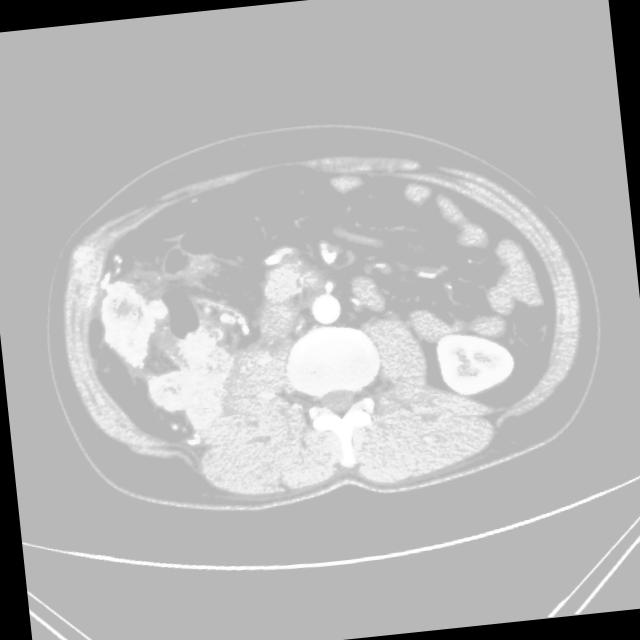TUMOR: (78, 166, 537, 471)
